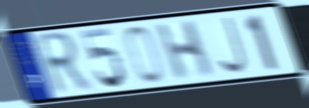0: (123, 23, 169, 87)
1: (245, 12, 280, 73)
5: (79, 26, 128, 91)
H: (155, 18, 217, 83)
J: (216, 15, 250, 77)
R: (32, 29, 95, 99)
